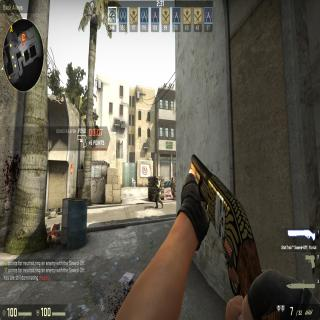CT-Body: (155, 176, 161, 208), (170, 175, 174, 194)
CT-Head: (156, 176, 158, 182), (171, 176, 174, 180)
